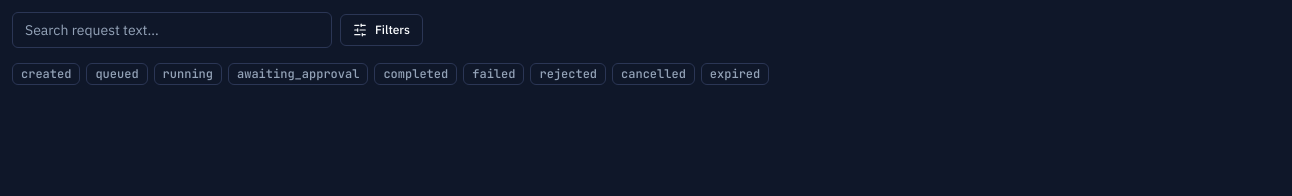
Scenario: RunFilters › reveals since/until/parent run id fields behind the Filters toggle
This screenshot has width=1292, height=196.
Check: the text "Parent run ID" is not shown
What coordinates should you click on to do the following:
click the button "Filters"
I would click on:
 (381, 30)
Its box is x1=340 y1=14 x2=423 y2=46.
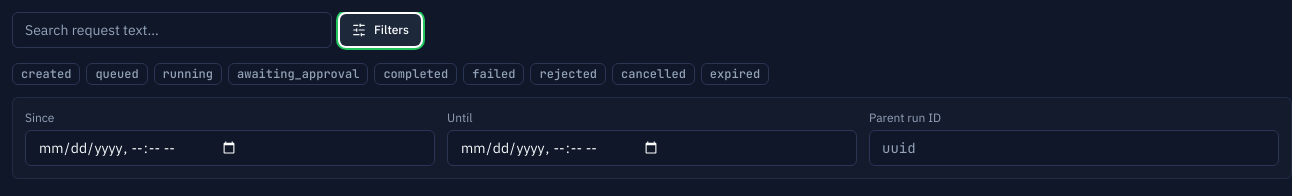
Check: the text "Parent run ID" is shown, box x1=869 y1=110 x2=1279 y2=166
